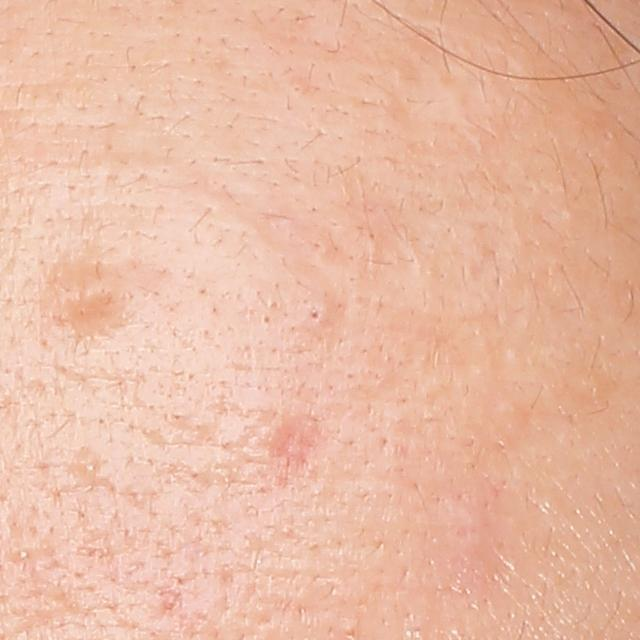comedo: (301, 297, 331, 329)
